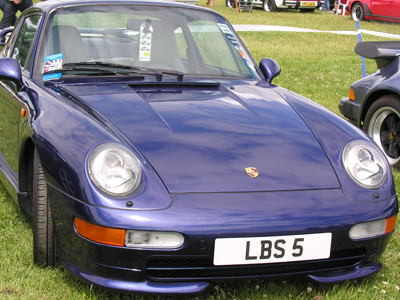licencePlate: (214, 233, 338, 265)
